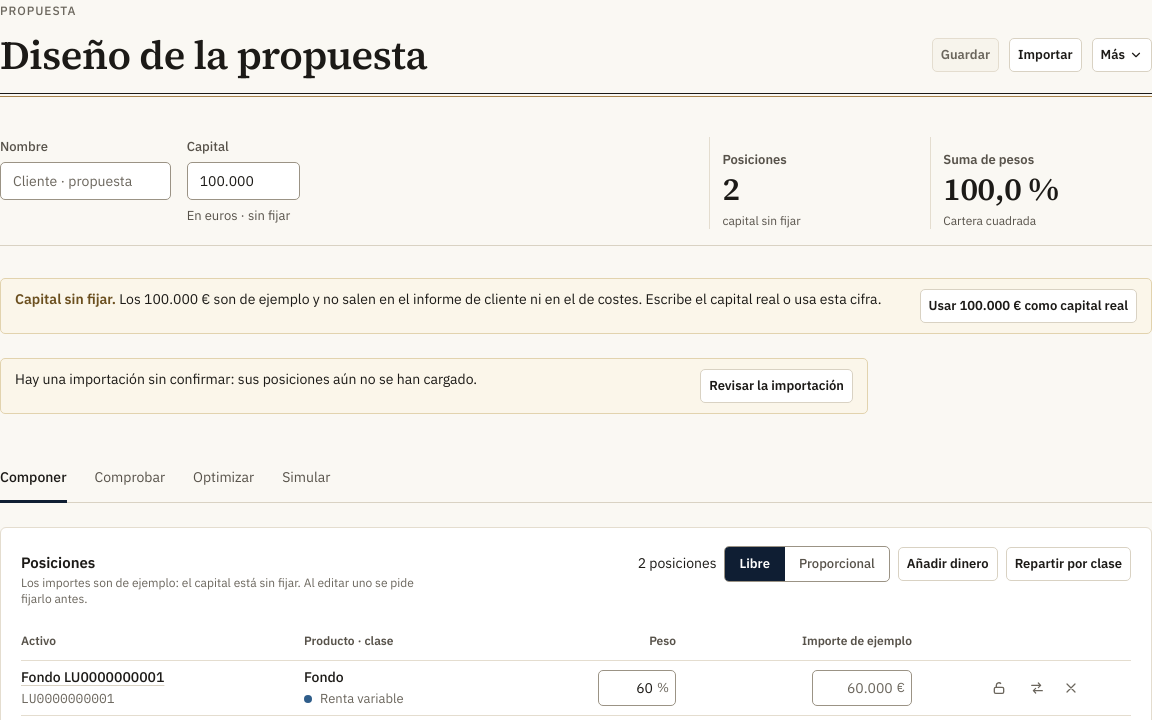
Test: empezar una cartera (hallazgo 144 y decisión 15) › una importación sin confirmar no se pierde al cerrar: se dice y se puede volver a ella
Click the button "Revisar la importación". click: coordinates (777, 386)
box: [700, 369, 853, 403]
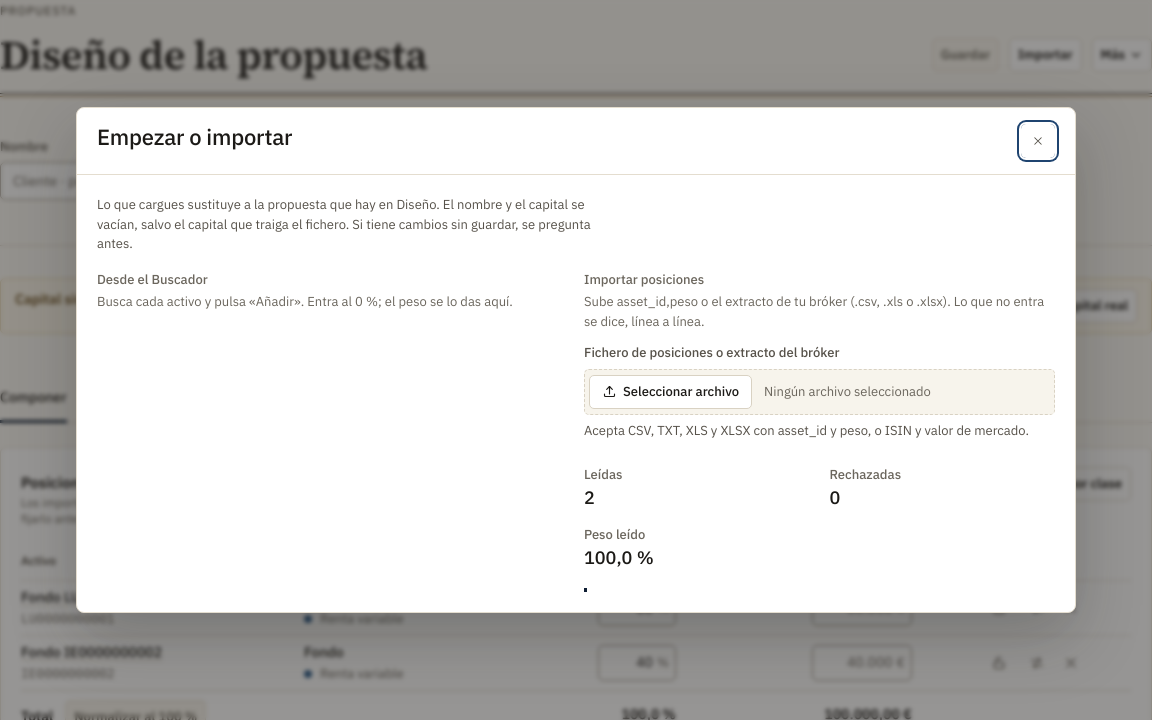
Result: the element showing "Leídas 2 Rechazadas 0 Peso leído 100,0 %" is shown at [584, 452, 1055, 592]
